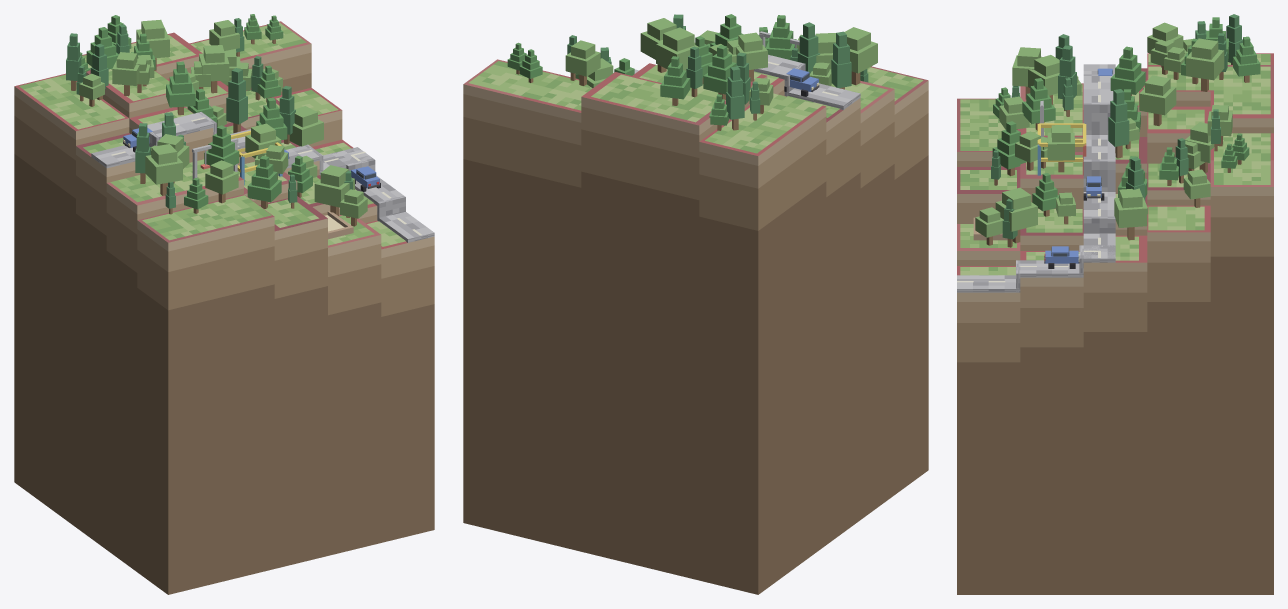
The model's file is block_20_permeable_15.glb.
The picture shows the model from 3 angles, left to right: view 1: azimuth 30°, elevation 25°; view 2: azimuth 150°, elevation 25°; view 3: azimuth 270°, elevation 25°; orthographic projection. The views are drawn at different scales.
Parts seen in each view (by area): view 1: Patch_UpperRight_b20_PP, Green_UpperRight_b20_PP, Roads_UpperRight_b20_PP, PlayEquip_UpperRight_b20_PP, URTree_20_37_PP, URTree_20_16_PP, URTree_20_13_PP, URTree_20_0_PP, URTree_20_5_PP, URTree_20_18_PP, URTree_20_3_PP, URTree_20_35_PP (+15 smaller); view 2: Patch_UpperRight_b20_PP, Green_UpperRight_b20_PP, Roads_UpperRight_b20_PP, URTree_20_37_PP, URTree_20_46_PP, URTree_20_25_PP, URTree_20_41_PP, URTree_20_34_PP, URTree_20_49_PP, URTree_20_45_PP, URTree_20_50_PP, URTree_20_36_PP (+3 smaller); view 3: Patch_UpperRight_b20_PP, Green_UpperRight_b20_PP, Roads_UpperRight_b20_PP, URTree_20_46_PP, URTree_20_3_PP, URTree_20_16_PP, URTree_20_18_PP, URTree_20_0_PP, URTree_20_5_PP, PlayEquip_UpperRight_b20_PP, URTree_20_15_PP, URTree_20_36_PP (+21 smaller).
Part boxes in pixels (box(x1,y1,x2,y2)): Patch_UpperRight_b20_PP: box(14, 21, 434, 594); Green_UpperRight_b20_PP: box(19, 22, 405, 246); Roads_UpperRight_b20_PP: box(91, 112, 434, 242); PlayEquip_UpperRight_b20_PP: box(192, 130, 353, 239); URTree_20_37_PP: box(145, 144, 182, 195); URTree_20_16_PP: box(314, 165, 354, 216); URTree_20_13_PP: box(247, 156, 281, 208); URTree_20_0_PP: box(226, 68, 247, 133); URTree_20_5_PP: box(166, 61, 195, 115); URTree_20_18_PP: box(289, 106, 323, 146); URTree_20_3_PP: box(199, 45, 229, 93); URTree_20_35_PP: box(205, 160, 238, 203); Patch_UpperRight_b20_PP: box(463, 59, 928, 594); Green_UpperRight_b20_PP: box(469, 61, 923, 153); Roads_UpperRight_b20_PP: box(634, 54, 860, 109); URTree_20_37_PP: box(844, 27, 877, 85); URTree_20_46_PP: box(656, 27, 698, 70); URTree_20_25_PP: box(565, 40, 600, 85); URTree_20_41_PP: box(703, 45, 736, 100); URTree_20_34_PP: box(831, 31, 851, 89); URTree_20_49_PP: box(660, 56, 690, 105); URTree_20_45_PP: box(726, 66, 744, 130); URTree_20_50_PP: box(736, 32, 767, 81); URTree_20_36_PP: box(766, 15, 796, 59); Patch_UpperRight_b20_PP: box(957, 53, 1273, 594); Green_UpperRight_b20_PP: box(960, 54, 1270, 275); Roads_UpperRight_b20_PP: box(957, 64, 1115, 292); URTree_20_46_PP: box(1186, 38, 1224, 91); URTree_20_3_PP: box(1139, 75, 1176, 125); URTree_20_16_PP: box(995, 187, 1037, 243); URTree_20_18_PP: box(1114, 188, 1147, 240); URTree_20_0_PP: box(1108, 89, 1129, 158); URTree_20_5_PP: box(1110, 46, 1145, 95); PlayEquip_UpperRight_b20_PP: box(973, 100, 1086, 240); URTree_20_15_PP: box(1047, 125, 1074, 172); URTree_20_36_PP: box(1022, 78, 1055, 130).
Size of the model in its own units: 9.5 by 15.65 by 9.5.
